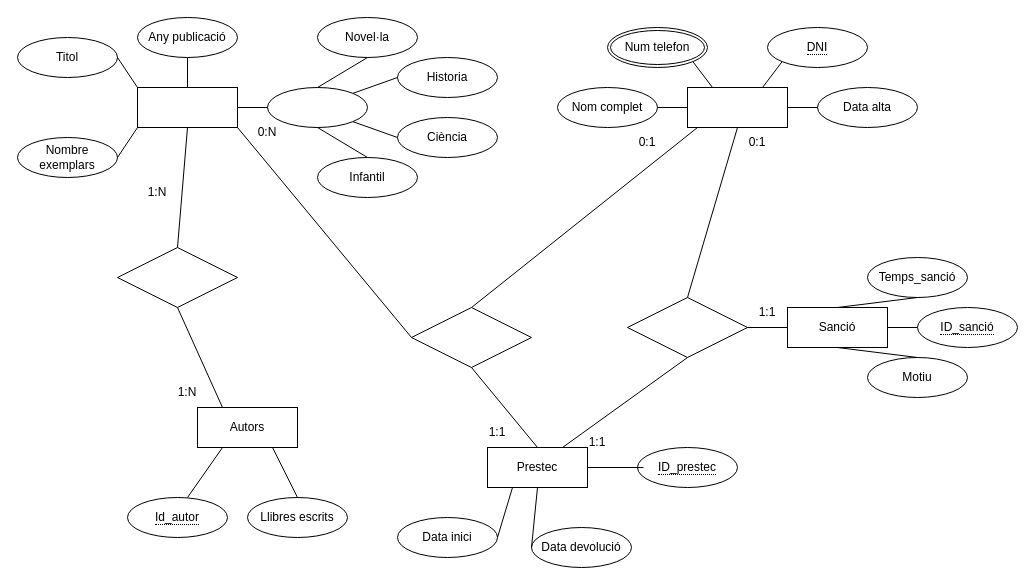
Some shapes in this 1035 by 585 pixel diagram are drawn without their labels. Here are the shapes that lost their labels. From the top down, the centre of each, then its label:
(x=187, y=107): Llibre
(x=317, y=107): Classificació
(x=737, y=107): Usuaris
(x=177, y=277): Escrit
(x=471, y=337): demanar
(x=687, y=327): No retorn
